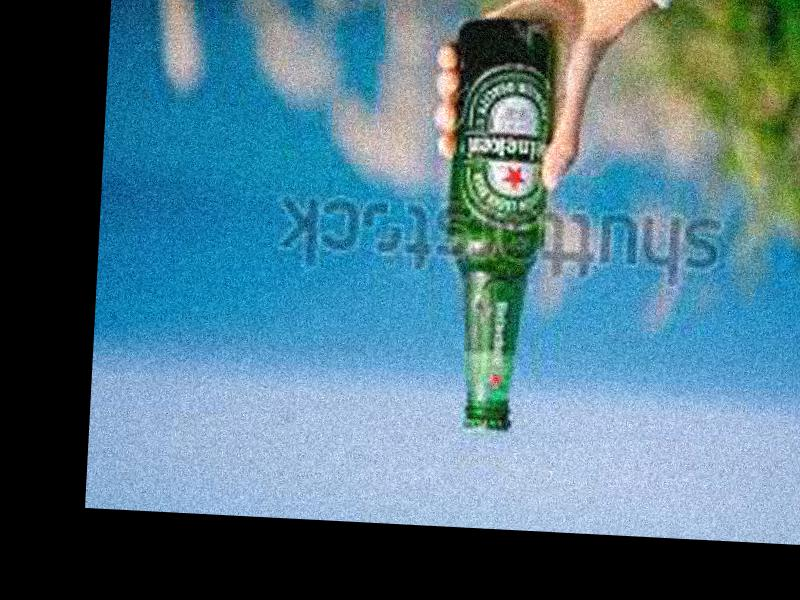Beer: (438, 15, 558, 434)
